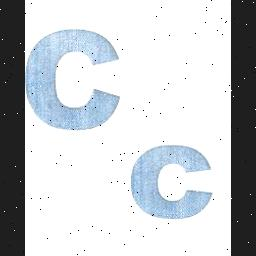c: (25, 23, 131, 135), (126, 136, 214, 230)
